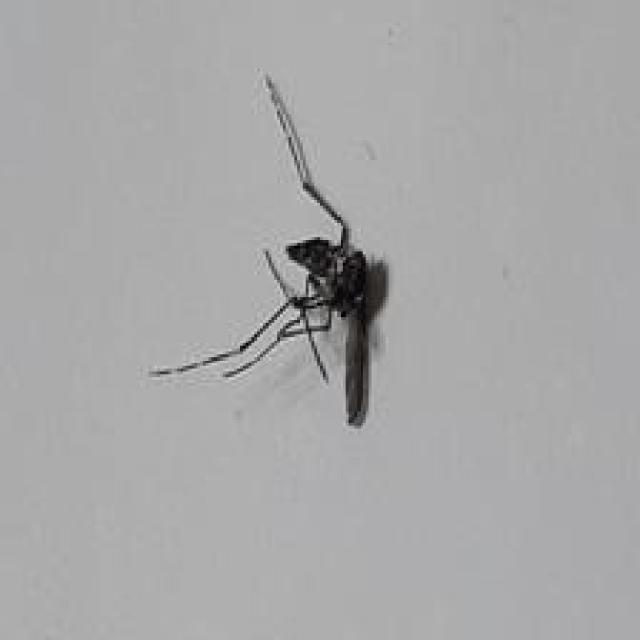Aedes albopictus: (147, 70, 390, 427)
